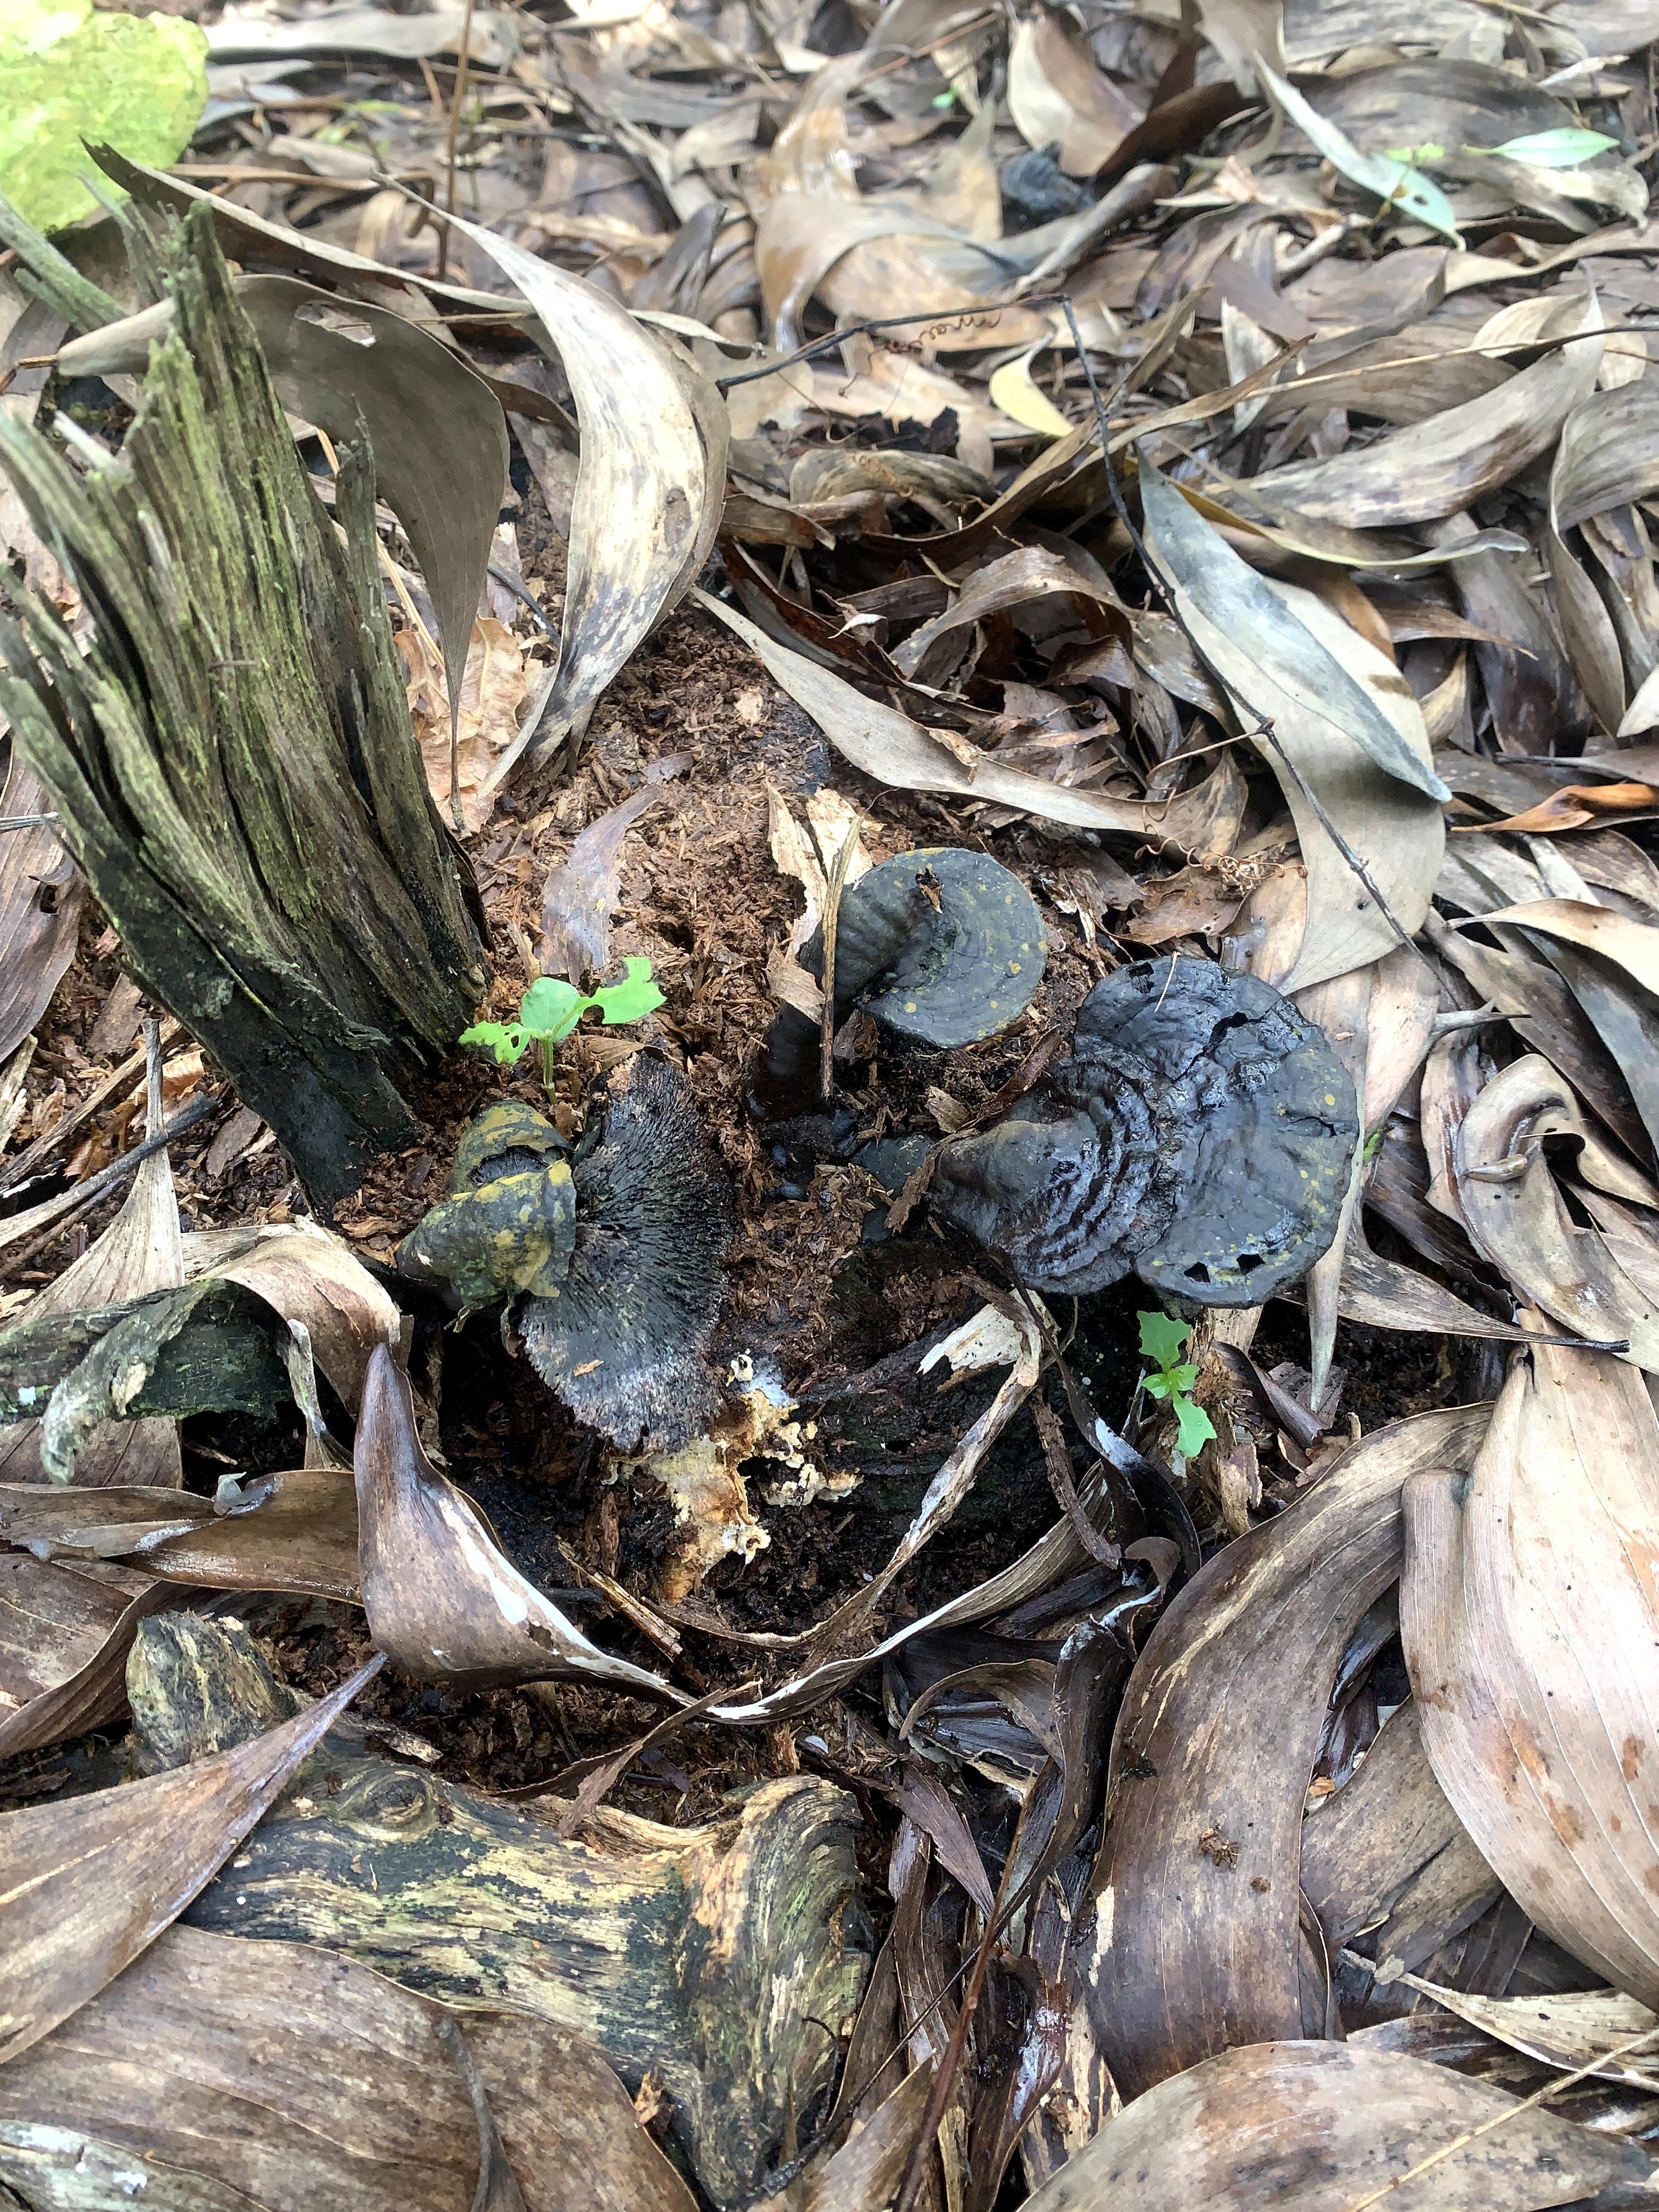Ganoderma - Fruit Body: (1025, 951, 1364, 1414), (828, 815, 1063, 1076)
